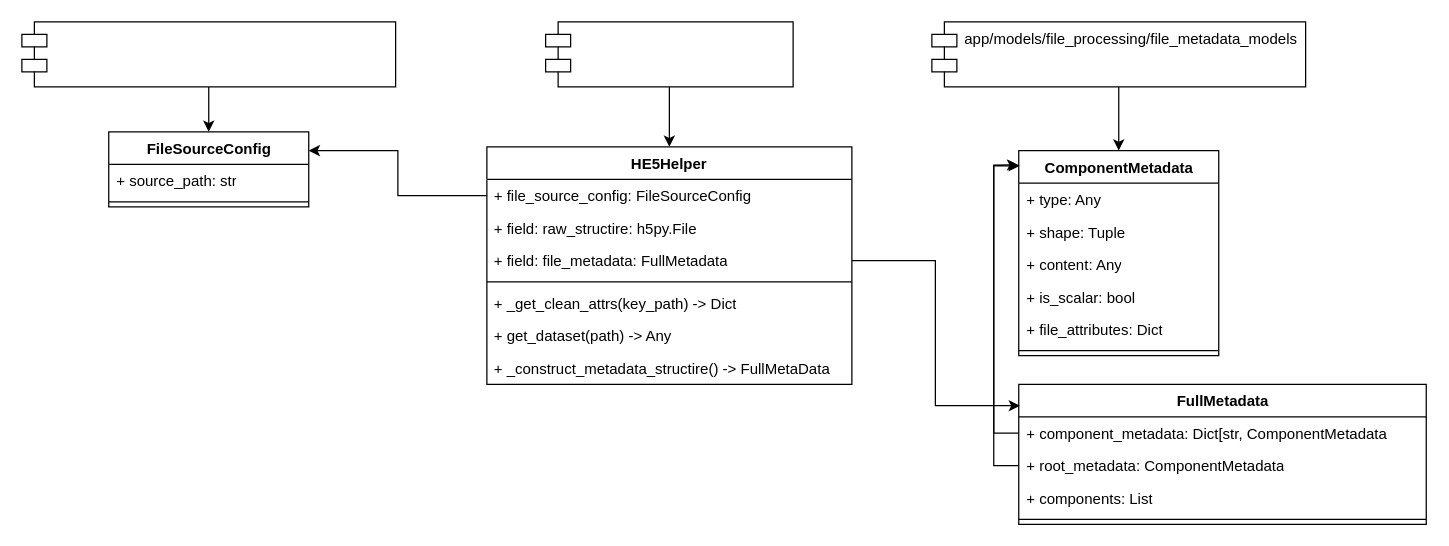
The diagram is 1449 pixels wide and 546 high, and some of its shapes have lost their labels. Each missing label, with the centre of its shape:
"app/models/file_processing/sources" belongs at pixel 208 54.
"app/utils/files/he5_helper" belongs at pixel 668 54.
